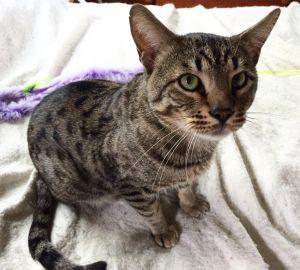bengal: (117, 1, 287, 145)
